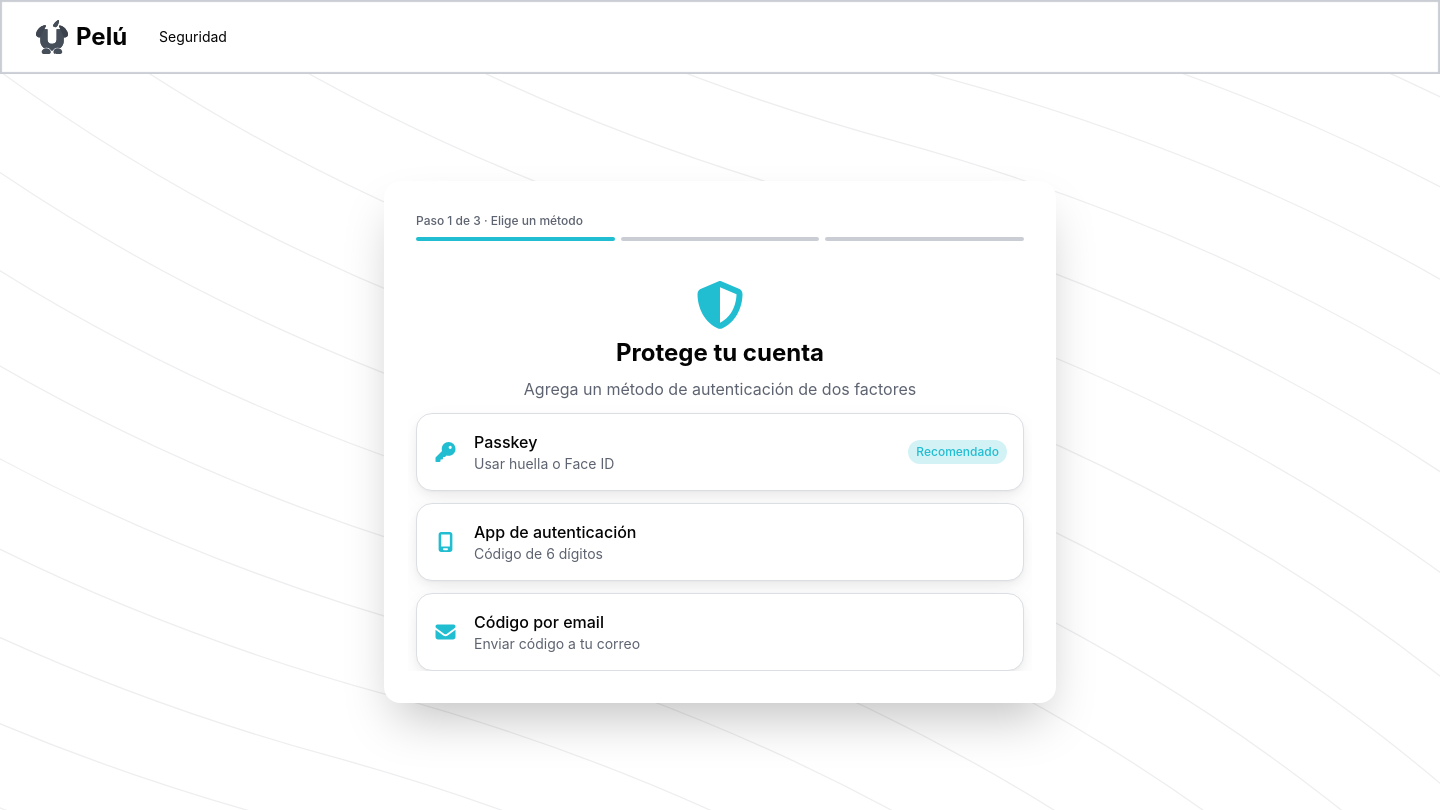
MfaEnrollment — email OTP must not fail silently › advances to the recovery codes on success instead of erroring
Click the button "Código por email Enviar código a tu correo" at (539, 622), box [416,593,1024,671]
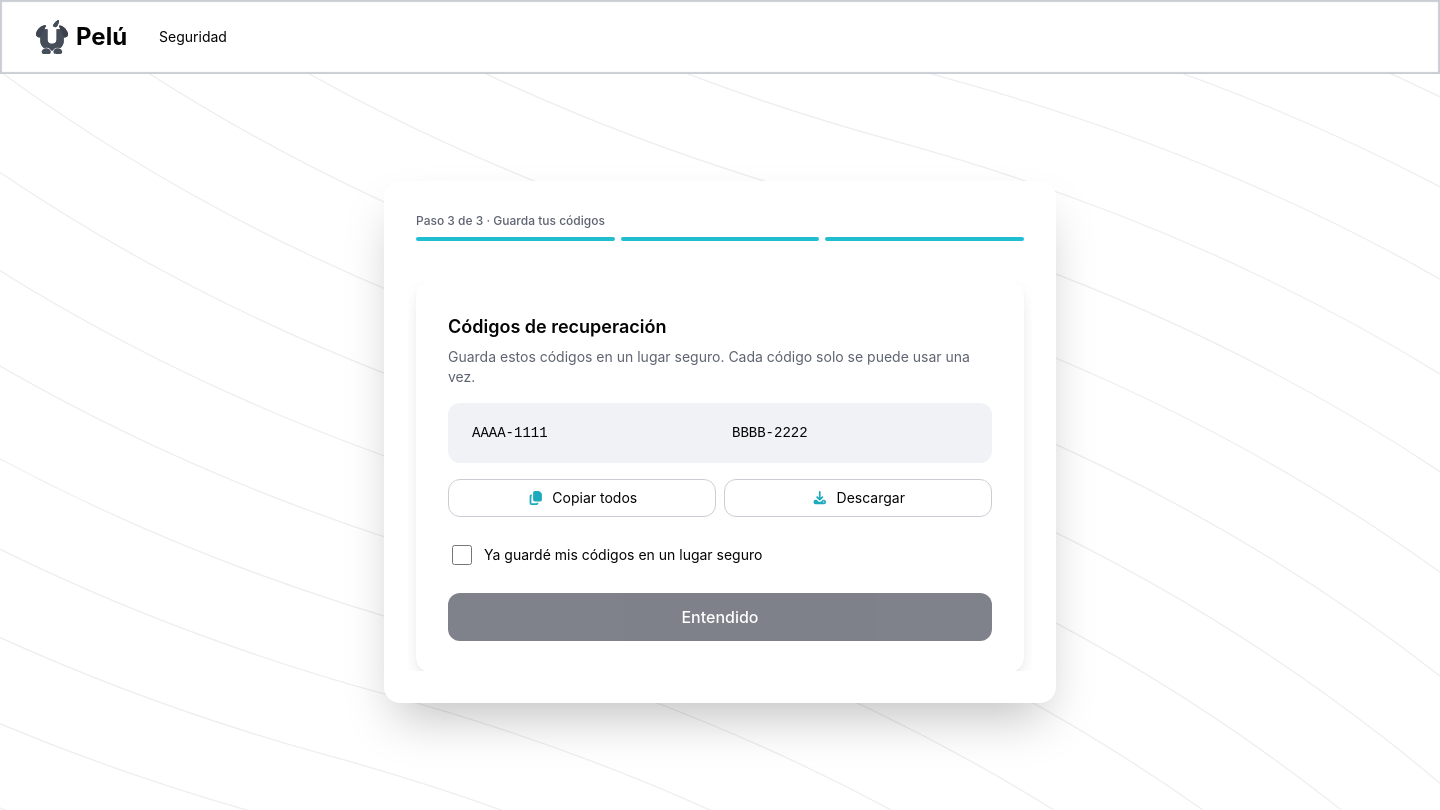
Check: the text "AAAA-1111" is shown, box [472,425,548,441]
Check: the text "BBBB-2222" is shown, box [732,425,808,441]
